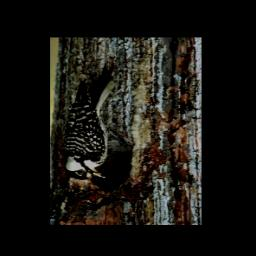Woodpecker: (64, 63, 118, 182)
